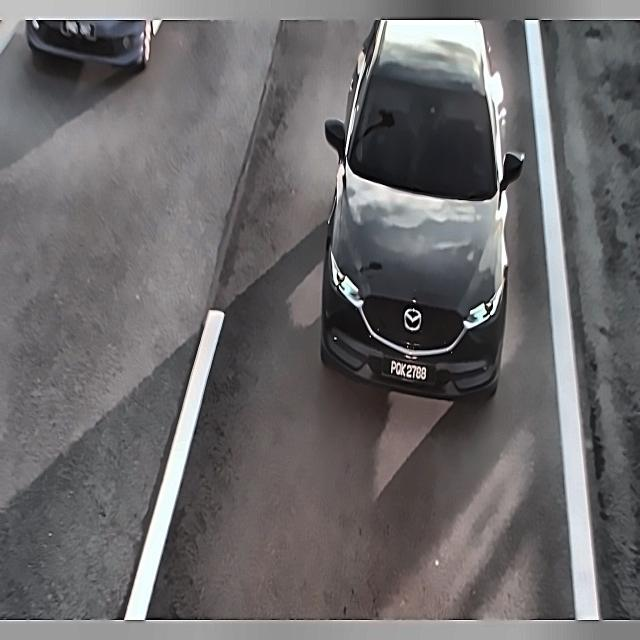car: (380, 354, 441, 391), (61, 17, 102, 44)
